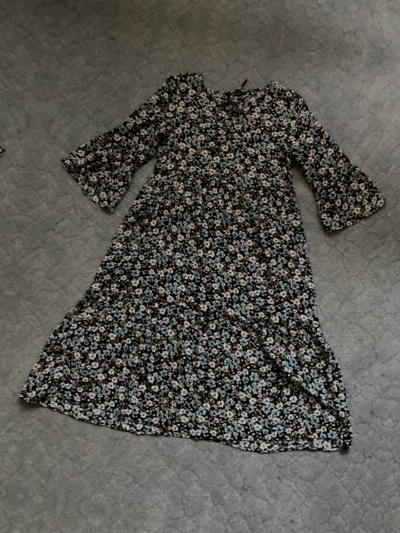Dress: (0, 25, 400, 480), (0, 0, 47, 414), (71, 0, 400, 42)
